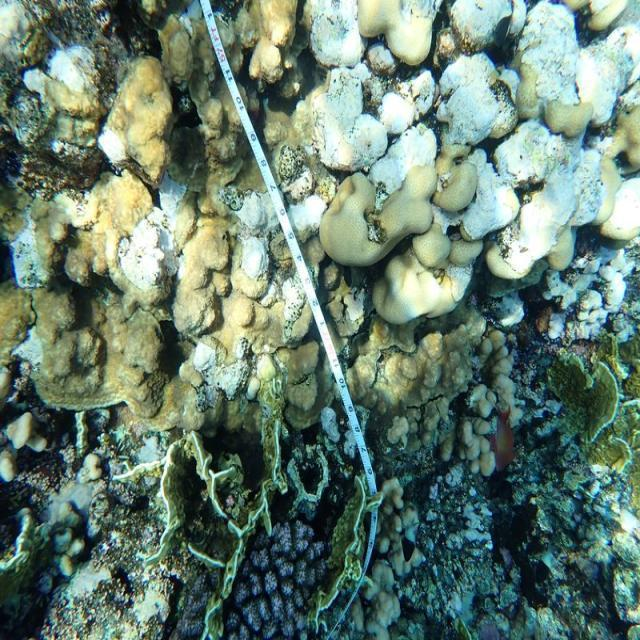Bleached Coral: (299, 0, 446, 178), (479, 122, 601, 290), (530, 0, 638, 133), (224, 161, 334, 287), (539, 230, 629, 372), (433, 38, 526, 164), (120, 186, 182, 290), (16, 34, 100, 95), (191, 333, 252, 408), (92, 122, 134, 172)
Healthy Coral: (324, 188, 475, 331)
